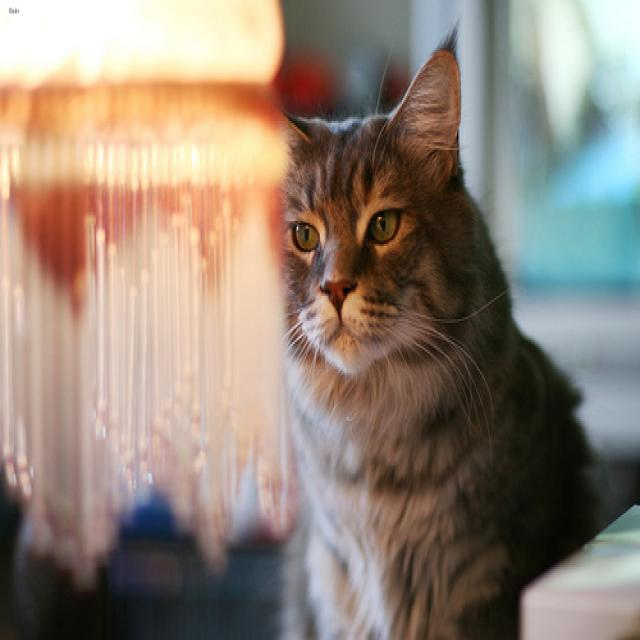cat: (276, 46, 458, 371)
